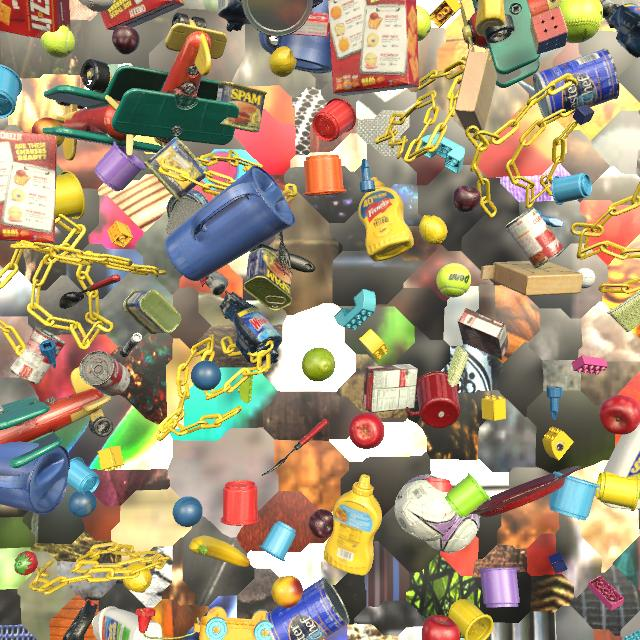ycb_002_master_chef_can: (533, 48, 619, 121), (265, 577, 350, 640)
ycb_003_cracker_box: (328, 0, 419, 96), (0, 130, 57, 243), (0, 0, 70, 38), (100, 0, 184, 30)
ycb_005_tomato_soup_can: (505, 207, 564, 269), (10, 327, 66, 385), (79, 351, 130, 396)
ycb_006_mustard_bottle: (324, 475, 382, 576), (358, 177, 414, 261), (476, 0, 505, 36)
ycb_007_tuna_fish_can: (167, 189, 209, 218)
ycb_008_pudding_box: (362, 364, 418, 413), (458, 308, 508, 360)
ycb_009_gelatin_box: (292, 12, 330, 37)
ycb_010_potted_meat_can: (144, 137, 209, 202), (243, 248, 292, 311), (216, 81, 267, 133), (123, 289, 181, 334)
ycb_011_banana: (189, 535, 250, 567)
ycb_012_strawberry: (14, 551, 38, 575)
ycb_013_apple: (599, 395, 640, 435), (349, 412, 385, 449), (422, 615, 460, 640)
ycb_014_lemon: (123, 563, 152, 592), (419, 215, 447, 245), (269, 46, 296, 77)
ycb_015_peach: (31, 117, 65, 147), (272, 576, 303, 608)
ycb_016_pear: (302, 347, 335, 381)
ycb_018_plum: (112, 25, 140, 55), (453, 186, 481, 213), (308, 509, 333, 538)
